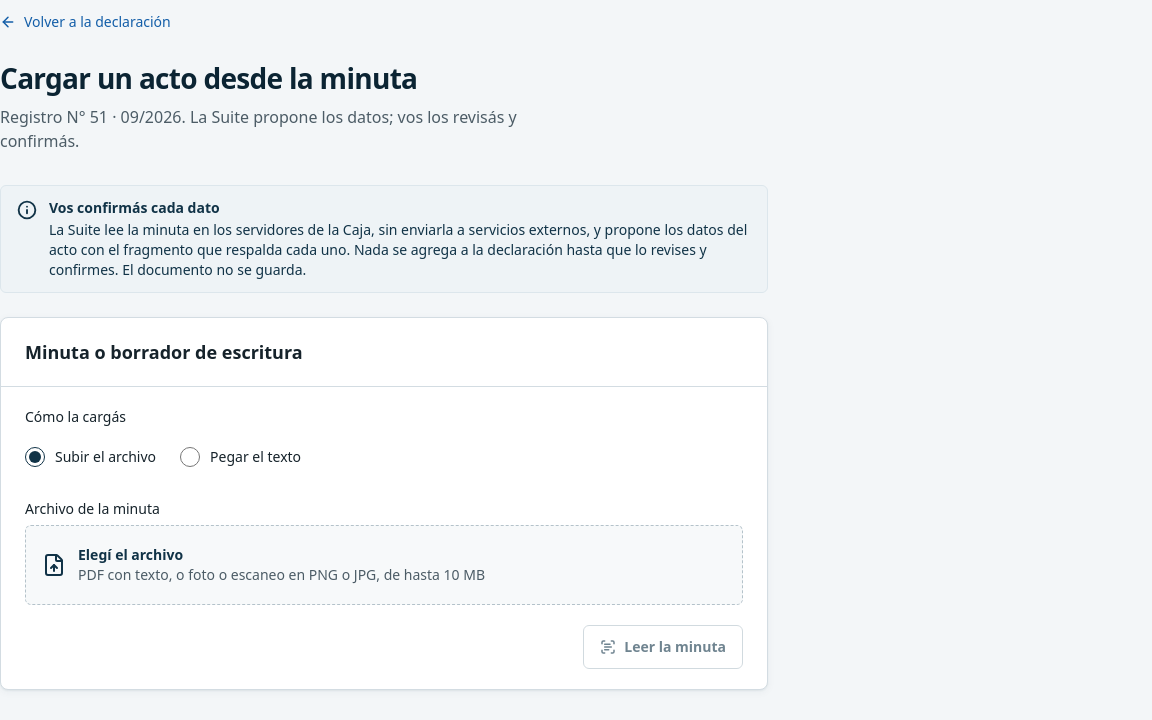
it: carga desde la minuta (Human in Command) › muestra respaldo, alertas y confianza baja antes de confirmar
This screenshot has width=1152, height=720.
Click the radio button labelled "Pegar el texto": [190, 457] box top-left (180, 447), bottom-right (200, 467)
(page scrolled)
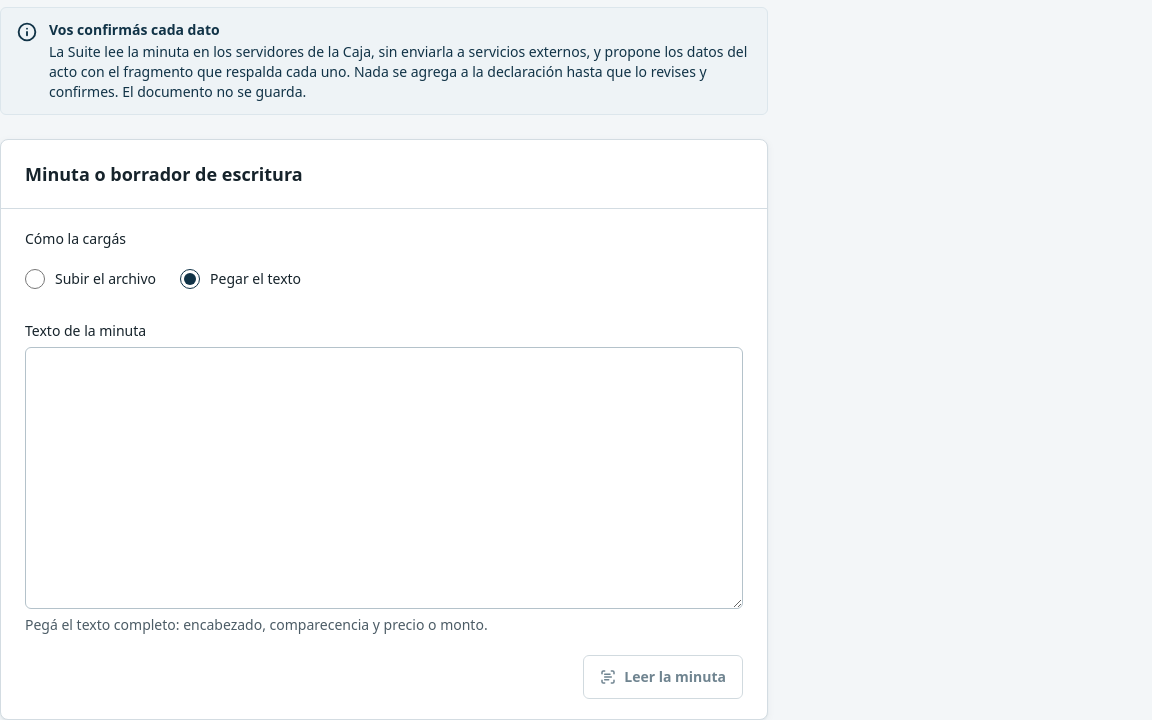
In the text box labelled "Texto de la minuta": [384, 478] box top-left (25, 347), bottom-right (743, 609), type "ESCRITURA NÚMERO CIENTO VEINTE (120)…"
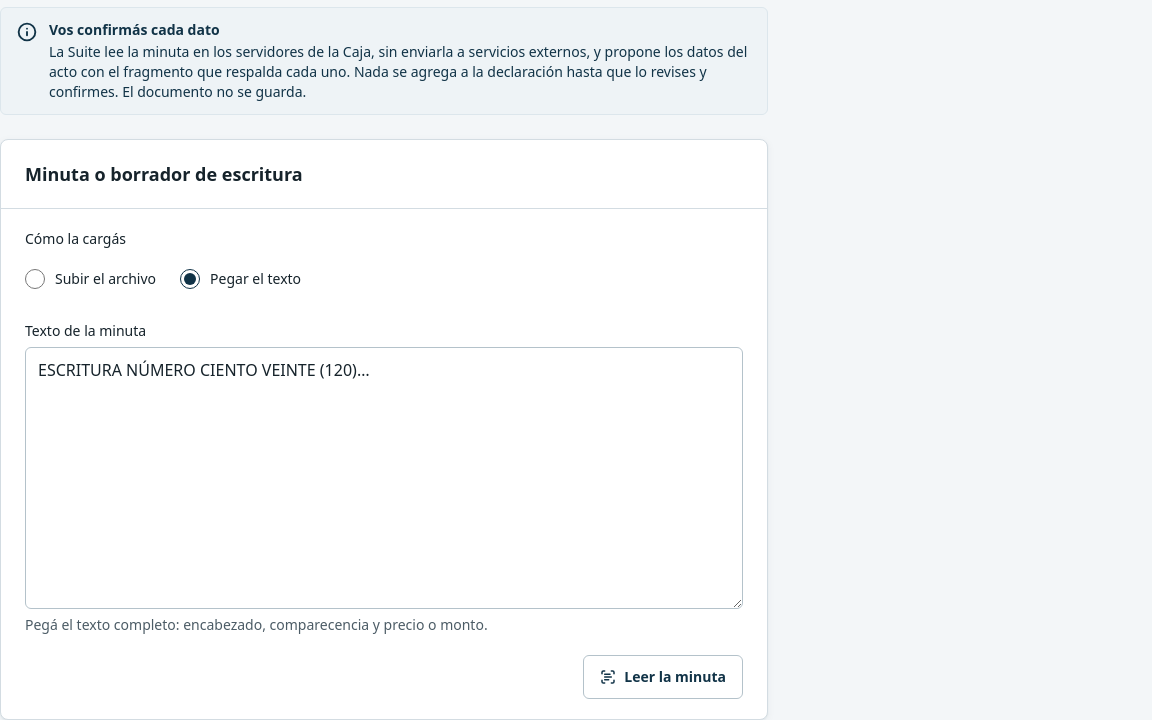
Click the button "Leer la minuta": [663, 677] box top-left (583, 655), bottom-right (743, 699)
(page scrolled)
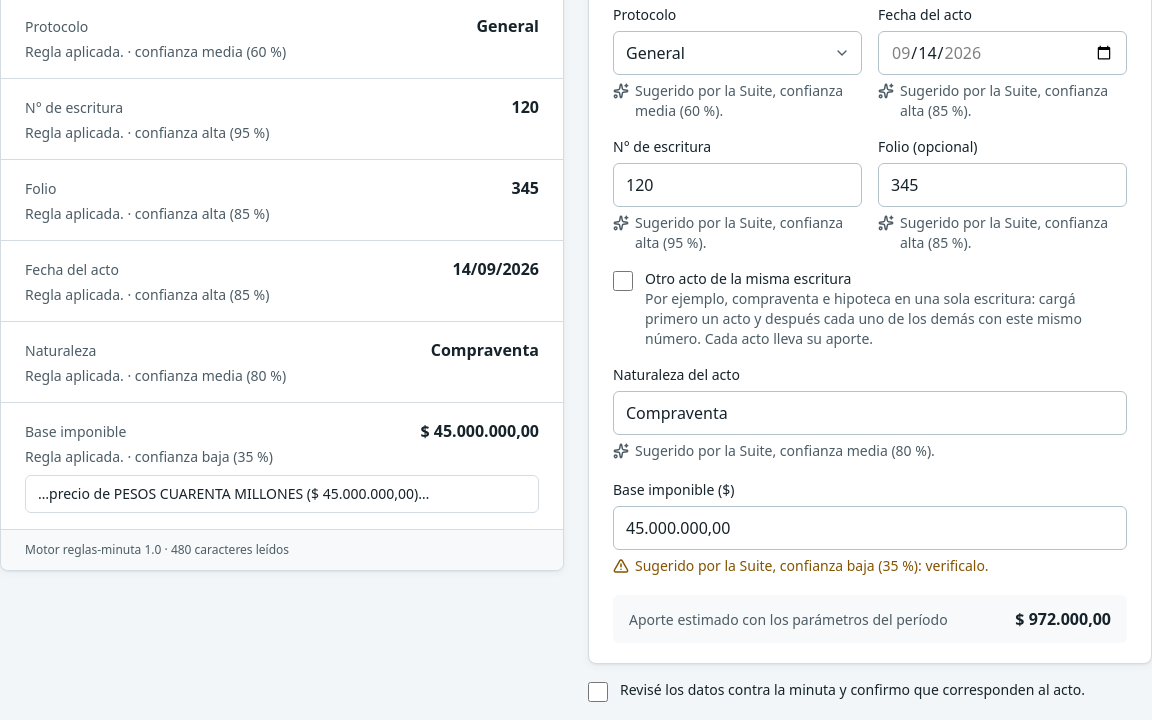
Now the text "…precio de PESOS CUARENTA MILLONES ($ 45.000.000,00)…" is shown, box top-left (25, 475), bottom-right (539, 513)
Now the field labelled "Base imponible ($)" holds "45.000.000,00", box top-left (613, 506), bottom-right (1127, 550)
Now the text "Sugerido por la Suite, confianza baja (35 %): verificalo." is shown, box top-left (635, 556), bottom-right (989, 576)
